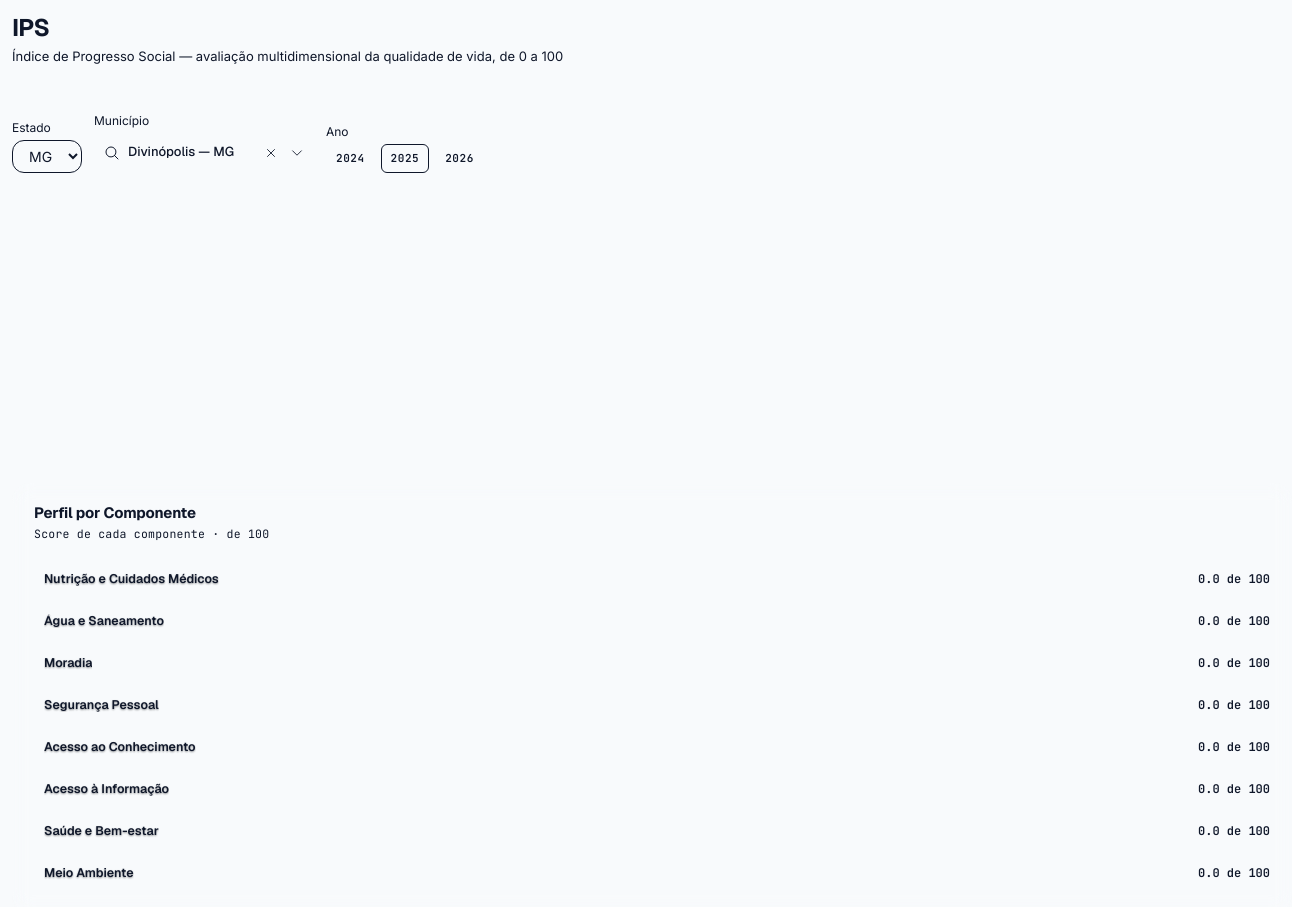
Scenario: IpsPage — anos com dados vêm do backend › escolher 2026 recarrega com ano=2026 e avisa a cobertura parcial e a troca de município
This screenshot has width=1292, height=907.
What coordinates should you click on to do the following:
click the button "2026"
I would click on:
 (460, 158)
Its box is [435,144,484,172].
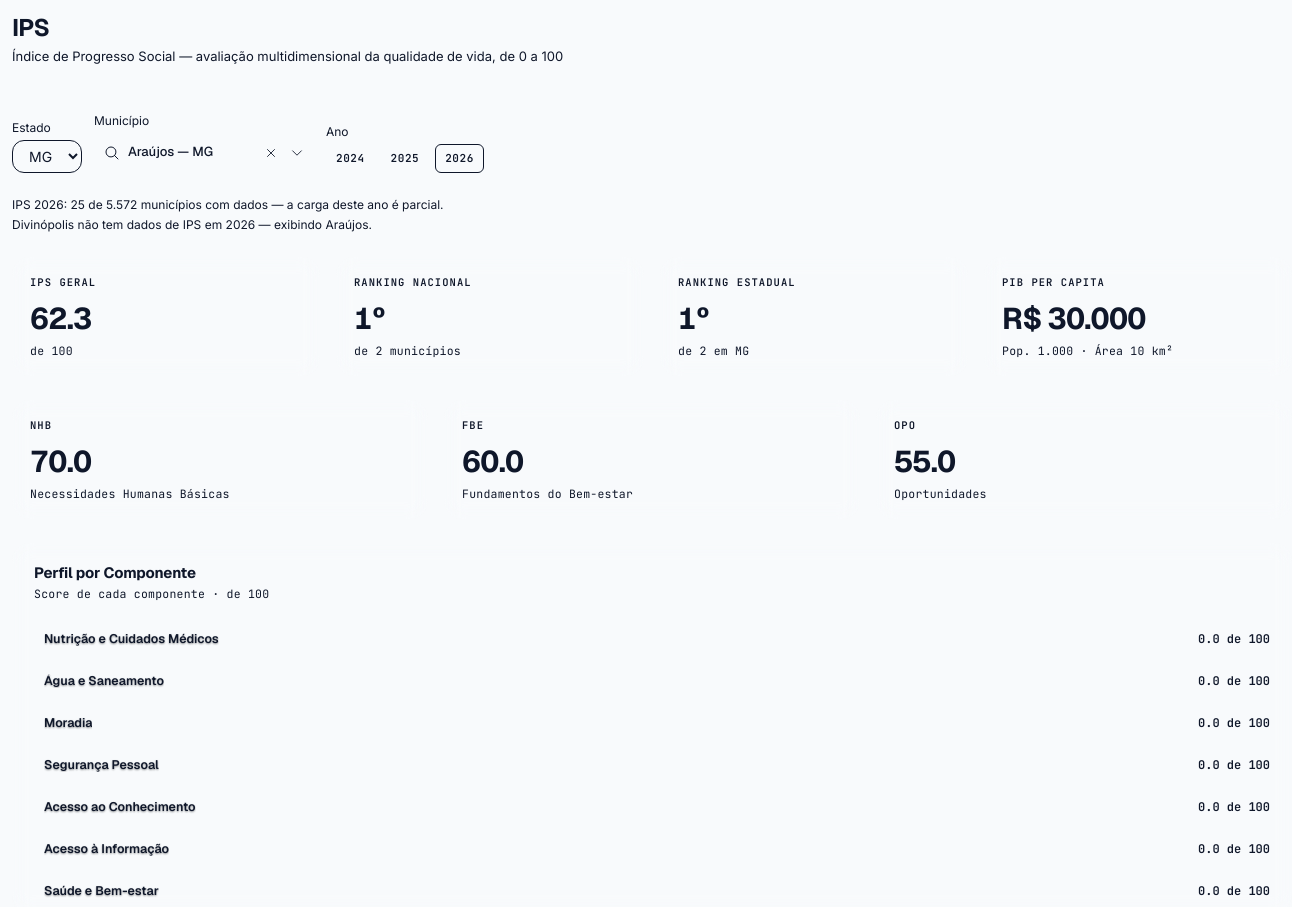
Check: the text "25 de 5.572 municípios com dados" is shown, box [12,196,444,212]
Check: the text "Divinópolis não tem dados de IPS em 2026 — exibindo Araújos." is shown, box [12,216,372,232]
